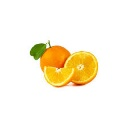orange: (30, 39, 71, 69), (74, 48, 98, 85), (43, 65, 75, 88)
